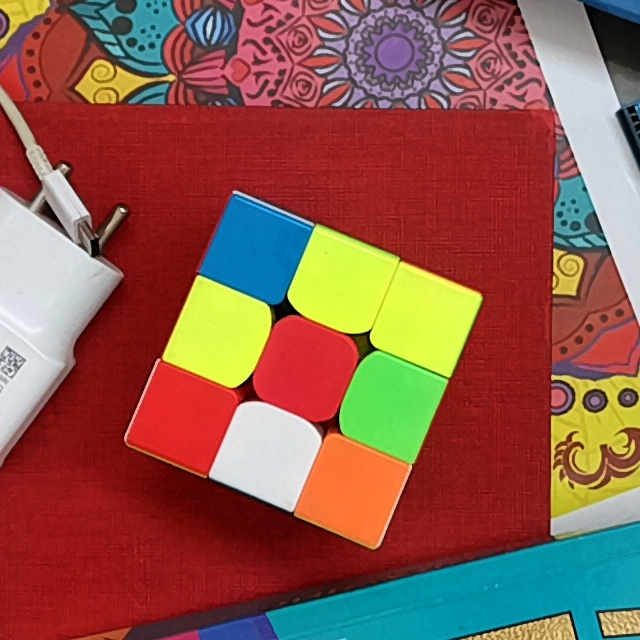tile: (392, 286, 458, 354), (273, 334, 338, 403), (357, 371, 423, 438), (308, 251, 373, 316), (151, 384, 216, 449), (320, 458, 384, 524), (234, 422, 301, 485), (227, 219, 289, 283), (190, 303, 253, 365)
